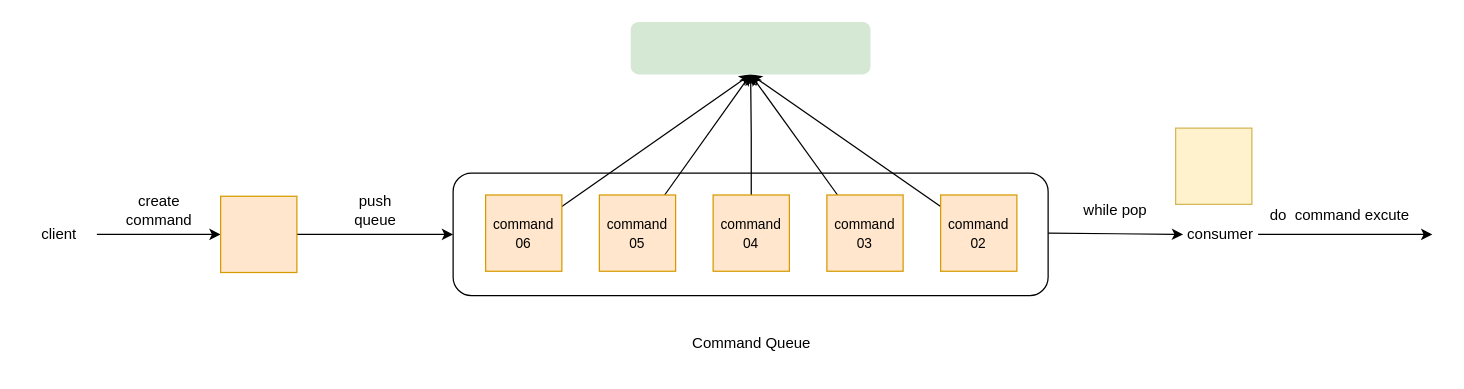
Image size: 1464x389. Some labels were removed from this diagram. The box of each missing label's shape, as (x1, y1, x2, y2) in pixels:
comand 01: (1174, 127, 1252, 204)
command 07: (219, 195, 297, 272)
Command Interface: (630, 21, 870, 74)
